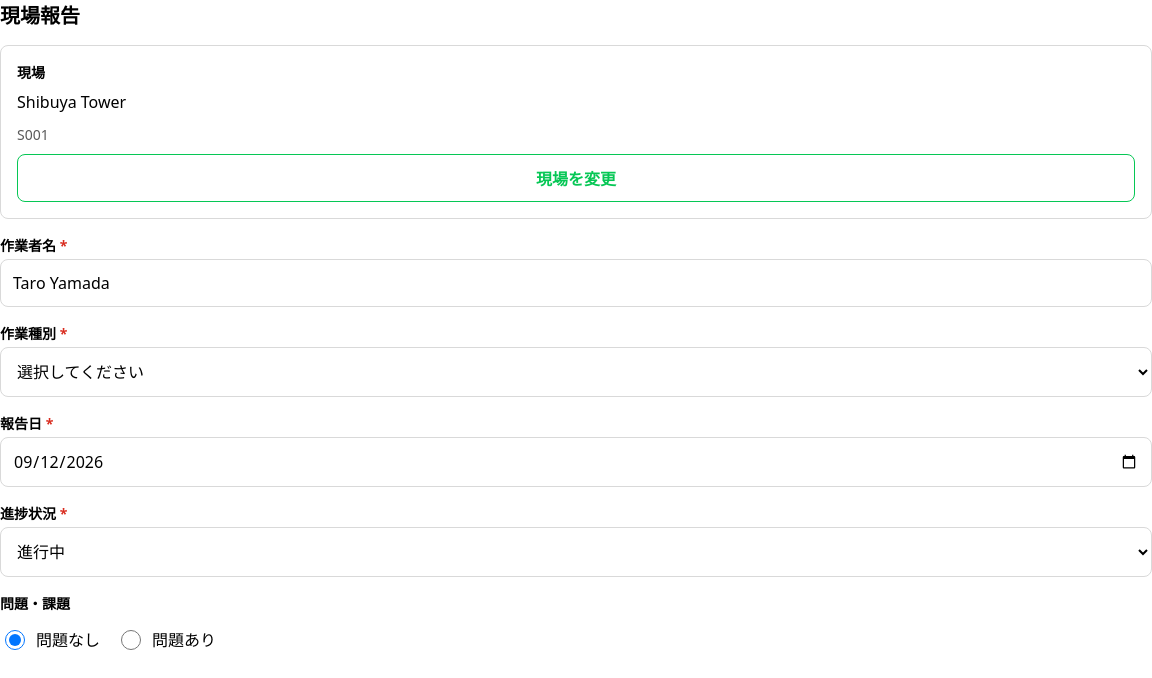
Test case: ReportEntryShell — change site (Phase 1 P0) › shows a confirmation instead of navigating immediately once only progressStatus has been edited
The width and height of the screenshot is (1152, 678).
Click the button "現場を変更". click: (576, 178)
box: [17,154,1135,202]
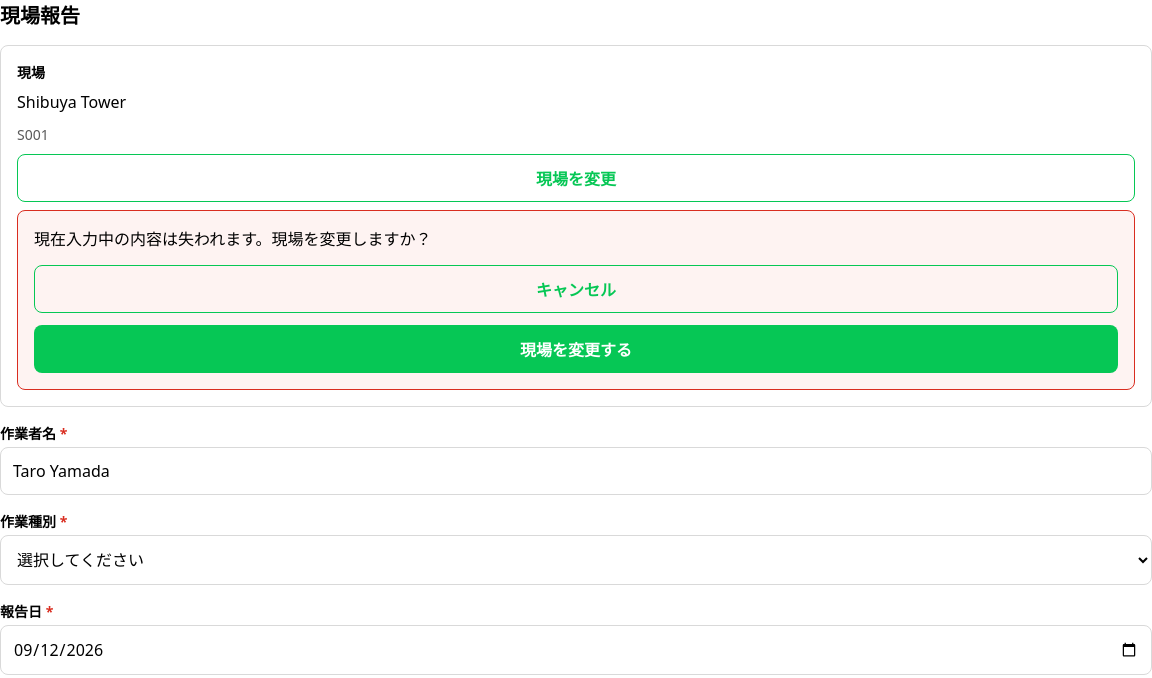
Check: the text "現在入力中の内容は失われます。現場を変更しますか？" is shown, box [34,228,432,250]
